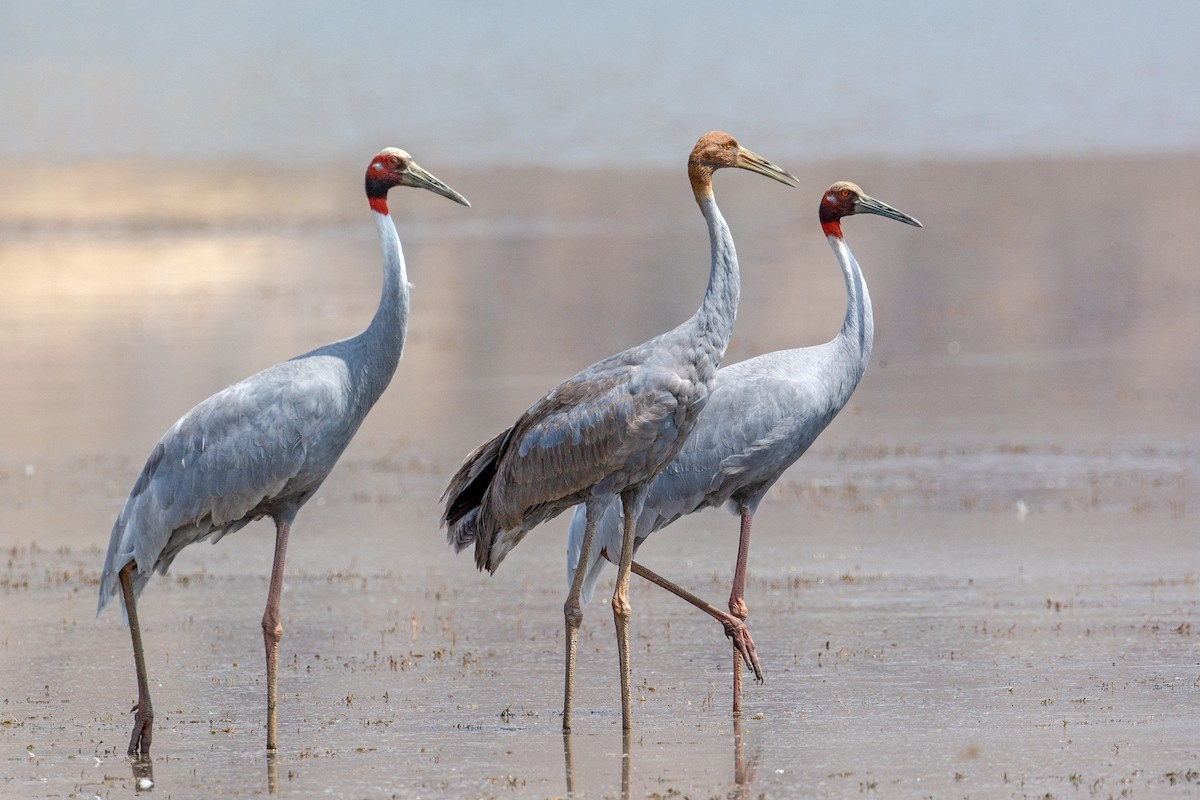crane: (90, 141, 480, 769), (509, 128, 803, 754), (671, 170, 930, 715)
